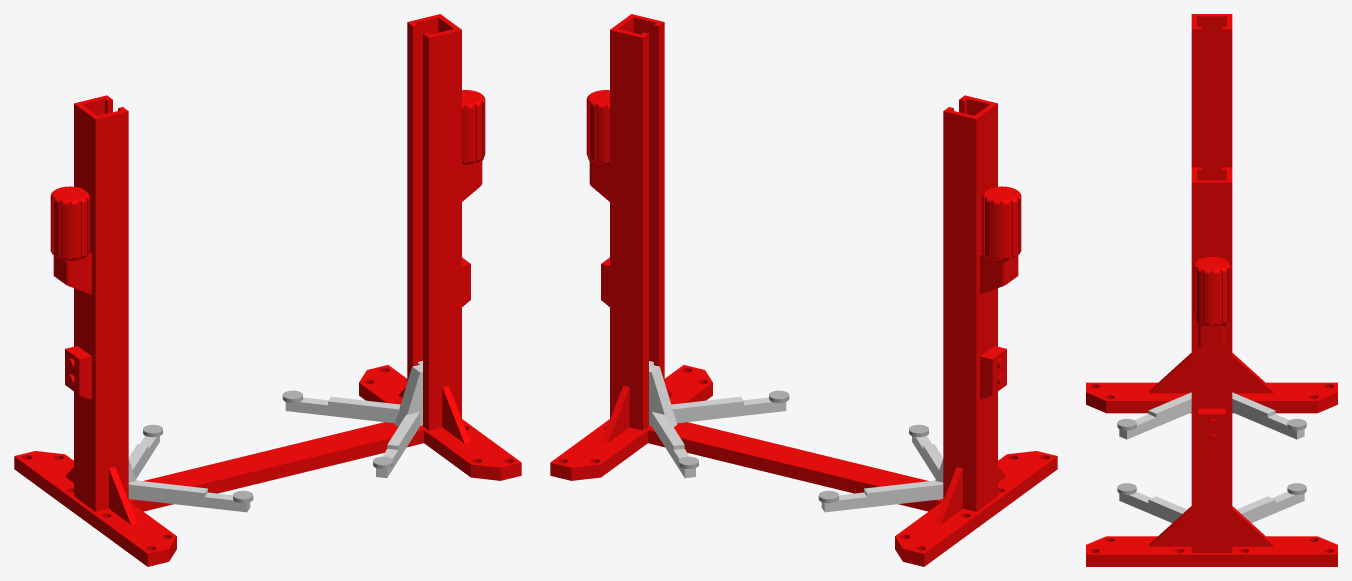
The model's file is hebebuehne.glb.
3 views of the same model, side by side, from view 1: azimuth 30°, elevation 25°; view 2: azimuth 150°, elevation 25°; view 3: azimuth 270°, elevation 25° (orthographic). The views are drawn at different scales.
Visible parts, largest first — view 1: Hebebühne-1, Schieber-2, Schieber-1; view 2: Hebebühne-1, Schieber-2, Schieber-1; view 3: Hebebühne-1, Schieber-1, Schieber-2.
Part boxes in pixels (x1=…): Hebebühne-1: x1=14, y1=14, x2=521, y2=566; Schieber-2: x1=282, y1=361, x2=422, y2=478; Schieber-1: x1=128, y1=424, x2=253, y2=512; Hebebühne-1: x1=550, y1=14, x2=1057, y2=566; Schieber-2: x1=649, y1=361, x2=789, y2=478; Schieber-1: x1=818, y1=424, x2=943, y2=512; Hebebühne-1: x1=1086, y1=14, x2=1337, y2=566; Schieber-1: x1=1117, y1=392, x2=1306, y2=439; Schieber-2: x1=1117, y1=483, x2=1306, y2=522.
Size of the model in its own units: 0.0687 by 0.062 by 0.037.
